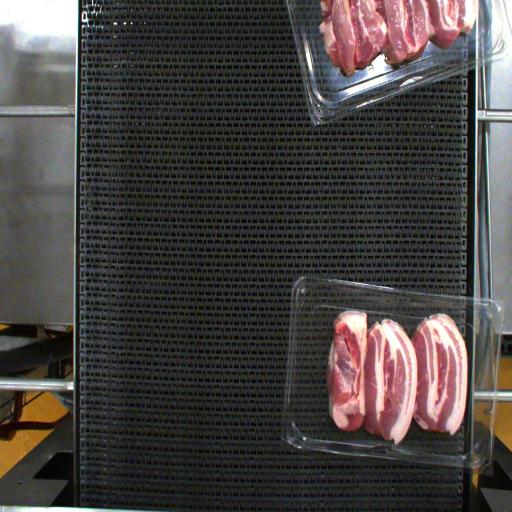twisted-meat: (332, 317, 372, 436)
